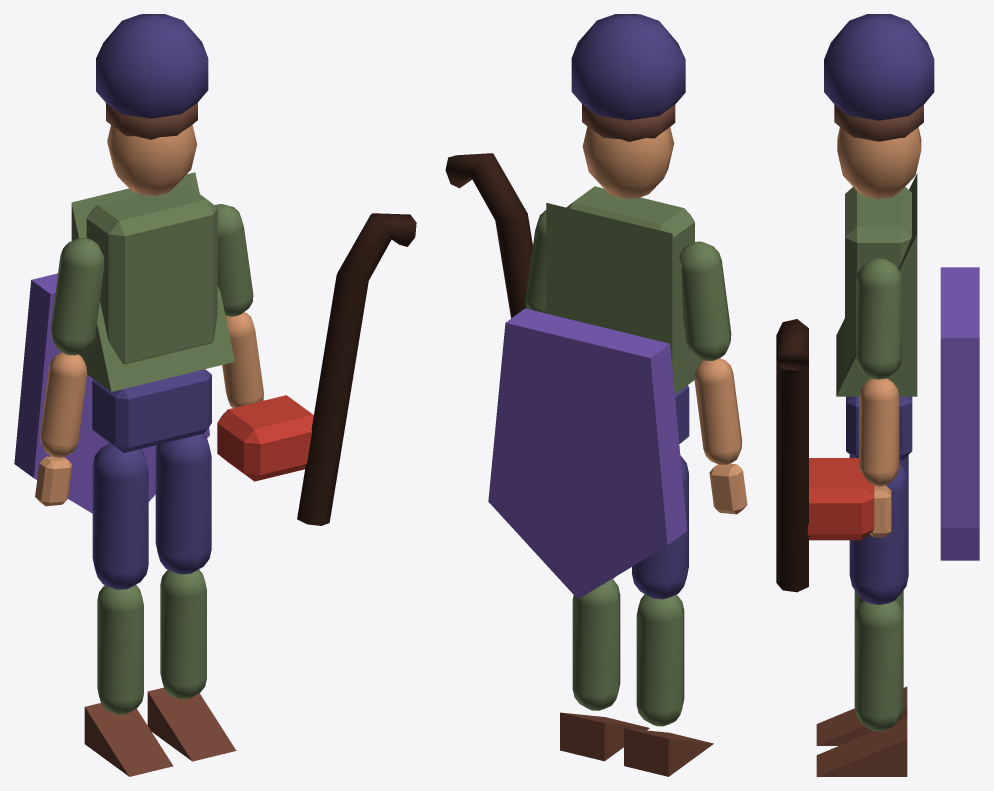
The model's file is adventurer.rustic.glb.
3 renders of one model, left to right at view 1: azimuth 30°, elevation 25°; view 2: azimuth 150°, elevation 25°; view 3: azimuth 270°, elevation 25°, orthographic.
Visible parts, largest first — view 1: torso, accessory.main-hand, accessory.head, accessory.back, thigh.left, pelvis, thigh.right, accessory.waist, tunic, shin.left, shin.right, upper-arm.left (+8 smaller); view 2: accessory.back, tunic, accessory.head, shin.left, shin.right, accessory.main-hand, upper-arm.left, head, forearm.left, torso, foot.left, thigh.left (+5 smaller); view 3: accessory.back, accessory.head, accessory.main-hand, shin.right, torso, upper-arm.right, accessory.waist, thigh.right, tunic, head, forearm.right, foot.right (+4 smaller).
Boxes of the visible parts, x1,y1,x2,y2 form: torso: (86, 183, 217, 364); accessory.main-hand: (297, 213, 416, 525); accessory.head: (96, 14, 208, 118); accessory.back: (14, 273, 209, 513); thigh.left: (92, 443, 148, 589); pelvis: (92, 369, 211, 452); thigh.right: (155, 433, 211, 574); accessory.waist: (217, 395, 313, 481); tunic: (71, 172, 235, 391); shin.left: (97, 585, 143, 714); shin.right: (160, 569, 206, 699); upper-arm.left: (51, 238, 104, 355); accessory.back: (488, 308, 687, 598); tunic: (546, 203, 702, 394); accessory.head: (571, 14, 685, 120); shin.left: (636, 594, 684, 726); shin.right: (572, 579, 620, 710); accessory.main-hand: (445, 153, 532, 318); upper-arm.left: (679, 241, 731, 361); head: (582, 126, 674, 198); forearm.left: (694, 358, 742, 465); torso: (566, 186, 694, 255); foot.left: (624, 728, 713, 776); thigh.left: (632, 455, 688, 599); accessory.back: (940, 267, 979, 560); accessory.head: (824, 14, 934, 120); accessory.main-hand: (776, 319, 808, 592); shin.right: (854, 600, 903, 731); torso: (845, 187, 911, 367); upper-arm.right: (856, 258, 902, 379); accessory.waist: (807, 458, 874, 540); thigh.right: (849, 463, 908, 604); tunic: (836, 173, 917, 396); head: (837, 127, 921, 198); forearm.right: (859, 378, 899, 486); foot.right: (816, 717, 907, 776).
Size of the model in its own units: 1.58 by 3.29 by 0.83.
